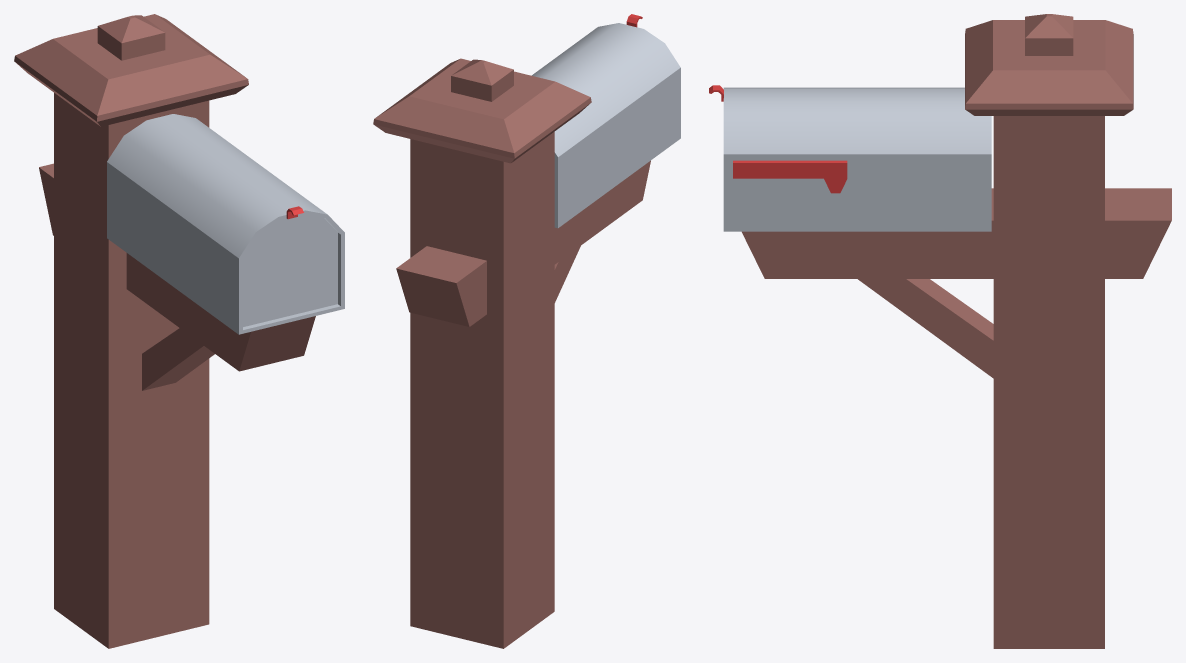
The model's file is mailbox.fbx.
3 views of the same model, side by side, from view 1: azimuth 30°, elevation 25°; view 2: azimuth 150°, elevation 25°; view 3: azimuth 270°, elevation 25° (orthographic). The views are drawn at different scales.
Visible parts, largest first — view 1: 11. mailbox; view 2: 11. mailbox; view 3: 11. mailbox.
Boxes of the visible parts, x1,y1,x2,y2 form: 11. mailbox: (14,14,344,648); 11. mailbox: (373,14,680,648); 11. mailbox: (709,14,1171,648).
Size of the model in its own units: 0.3044 by 1.15 by 0.7899.
